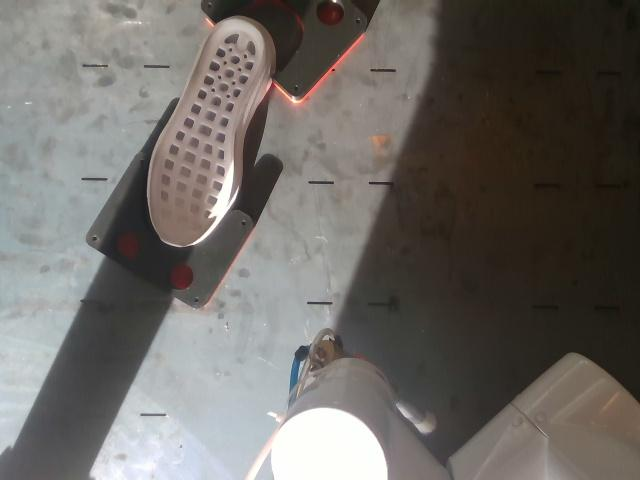shoes: (150, 19, 264, 246)
